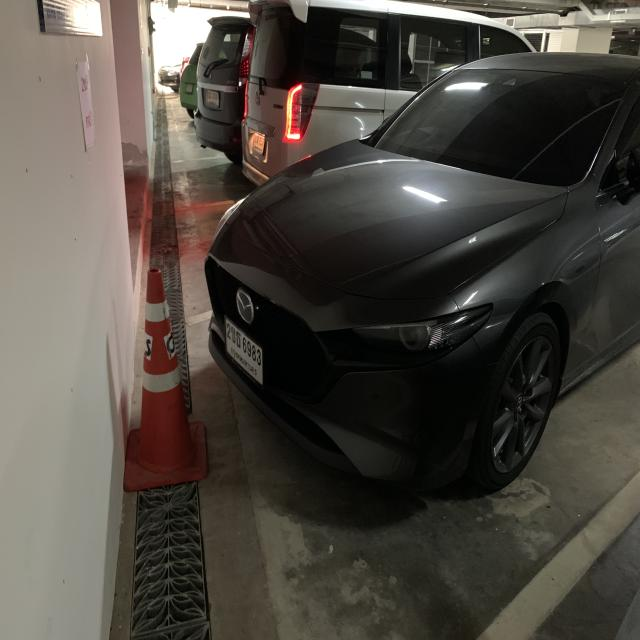license_plate: (224, 312, 268, 392), (249, 127, 266, 158), (204, 86, 221, 114), (183, 78, 194, 96)
